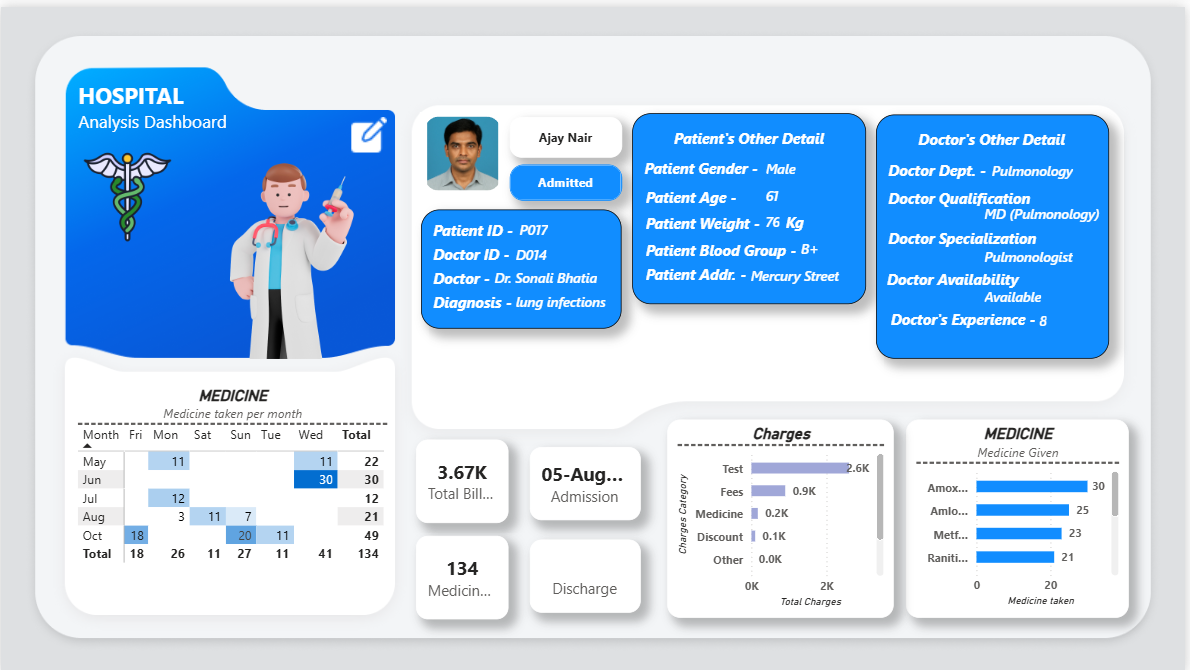

This screenshot's page, from the dashboard's own definition file:
{"tool":"powerbi","page":{"name":"Patient's Overview","canvas":[1280,720],"ordinal":0},"visuals":[{"type":"shape","box":[682.5,115,252.5,206.2],"z":0,"group":"g1"},{"type":"shape","box":[946,116,252,264],"z":0,"group":"g2"},{"type":"image","box":[196,158,226,222],"z":0},{"type":"textbox","box":[78.2,74.1,179.8,72.7],"z":1000},{"type":"textbox","box":[710.7,125.6,196,35.3],"z":1000,"group":"g1"},{"type":"textbox","box":[973.2,126.8,196,35.3],"z":1000,"group":"g2"},{"type":"image","box":[363.6,119.4,68.6,38.4],"z":2000},{"type":"textbox","box":[691.3,158.8,141.2,35],"z":2000,"group":"g1"},{"type":"textbox","box":[953.8,160,141.2,35],"z":2000,"group":"g2"},{"type":"textbox","box":[691.3,218.2,141.3,34.7],"z":3000,"group":"g1"},{"type":"textbox","box":[953.8,233.1,193.1,35],"z":3000,"group":"g2"},{"type":"pivotTable","title":"MEDICINE","fields":{"Values":["Sum(Medicine_patient.qty)"],"Columns":["Calender.Day"],"Rows":["Calender.Month"]},"box":[77.8,408.9,344.4,213.3],"z":3000},{"type":"textbox","box":[691.3,188.9,117.3,35.3],"z":4000,"group":"g1"},{"type":"textbox","box":[953.8,190,175.6,35.6],"z":4000,"group":"g2"},{"type":"clusteredBarChart","title":"MEDICINE","fields":{"Y":["Sum(Medicine_patient.qty)"],"Category":["Medical_stocks.name"]},"box":[978.9,446.5,240.8,214.1],"z":4000},{"type":"textbox","box":[691.3,247.6,204,34.7],"z":5000,"group":"g1"},{"type":"textbox","box":[953.1,277.5,204.4,35],"z":5000,"group":"g2"},{"type":"clusteredBarChart","title":"Charges","fields":{"Y":["Sum(Bills.Value)"],"Category":["Bills.Charge_Type"]},"box":[719.7,446.5,245.1,214.1],"z":5000},{"type":"cardVisual","fields":{"Data":["Min(Patient_info.doctor_department)"]},"box":[1065.6,158.8,103.8,32.5],"z":6000,"group":"g2"},{"type":"cardVisual","fields":{"Data":["Min(Patient_info.patient_gender)"]},"box":[821.3,160.2,103.3,27.3],"z":6000,"group":"g1"},{"type":"cardVisual","title":"vrgrbb","fields":{"Data":["Measure.Total_bill_amount"]},"box":[448.7,468.2,100,90],"z":6000},{"type":"cardVisual","fields":{"Data":["Sum(Patient_info.patient_age)"]},"box":[821.3,188.9,103.3,27.3],"z":7000,"group":"g1"},{"type":"cardVisual","fields":{"Data":["Min(Patient_info.doctor_qualification)"]},"box":[1058.8,206.9,138.8,31.9],"z":7000,"group":"g2"},{"type":"cardVisual","fields":{"Data":["Measure.medicine_total_sales"]},"box":[449.3,571.8,100,90.1],"z":7000},{"type":"cardVisual","fields":{"Data":["Sum(Patient_info.patient_weight)"]},"box":[822,218.2,28.7,27.3],"z":8000,"group":"g1"},{"type":"cardVisual","fields":{"Data":["Min(Patient_info.doctor_specialization)"]},"box":[1058.8,251.2,125,34.4],"z":8000,"group":"g2"},{"type":"cardVisual","title":"vrgrbb","fields":{"Data":["Min(Patient_info.Admission_date)"]},"box":[571.8,476.1,119.7,78.9],"z":8000},{"type":"textbox","box":[842.7,216.2,34.7,34.7],"z":9000,"group":"g1"},{"type":"cardVisual","fields":{"Data":["Min(Patient_info.doctor_availability)"]},"box":[1058.5,298.5,78.5,28.5],"z":9000,"group":"g2"},{"type":"cardVisual","title":"vrgrbb","fields":{"Data":["Min(Patient_info.Discharge_date)"]},"box":[571.8,576.1,119.7,78.9],"z":9000},{"type":"cardVisual","fields":{"Data":["Min(Patient_info.patient_Img)"]},"box":[452.5,113.1,93.1,90],"z":10000},{"type":"cardVisual","fields":{"Data":["Min(Patient_info.patient_blood_group)"]},"box":[860,246.2,46.9,27.7],"z":10000,"group":"g1"},{"type":"textbox","box":[956.2,321.5,204.6,33.8],"z":10000,"group":"g2"},{"type":"cardVisual","title":"vrgrbb","fields":{"Data":["Min(Patient_info.patient_name)"]},"box":[549.7,119,121.5,44.2],"z":11000},{"type":"textbox","box":[691.3,273.6,204,34.7],"z":11000,"group":"g1"},{"type":"cardVisual","fields":{"Data":["Sum(Patient_info.doctor_experience_years)"]},"box":[1117.4,320,40,35.3],"z":11000,"group":"g2"},{"type":"cardVisual","title":"vrgrbb","fields":{"Data":["Min(Patient_info.patient_status)"]},"box":[550,170.9,121.8,39.1],"z":12000},{"type":"cardVisual","fields":{"Data":["Min(Patient_info.patient_address)"]},"box":[805.4,271.6,109.2,36.2],"z":12000,"group":"g1"},{"type":"shape","box":[453.6,218.6,216.4,128.6],"z":13000},{"type":"textbox","box":[462.5,225,98.8,35],"z":14000},{"type":"textbox","box":[462.5,251.9,98.8,35],"z":15000},{"type":"textbox","box":[462.5,277.5,75,35],"z":16000},{"type":"cardVisual","fields":{"Data":["Min(Appoinment.patient_id)"]},"box":[555.6,218.8,91.2,41.2],"z":17000},{"type":"cardVisual","fields":{"Data":["Min(Appoinment.doctor_id)"]},"box":[551.2,248.8,91.2,35],"z":18000},{"type":"cardVisual","fields":{"Data":["Min(Patient_info.doctor_name)"]},"box":[528.9,271.1,131.1,41.1],"z":19000},{"type":"textbox","box":[462.5,303.1,132.5,35],"z":20000},{"type":"cardVisual","fields":{"Data":["Min(Appoinment.diagnosis)"]},"box":[551.2,296.9,109.4,41.2],"z":21000},{"type":"group","id":"g1","title":"Patient_detail","box":[682.5,115,252.5,206.2],"z":23000},{"type":"image","box":[64,152,146,106],"z":24000},{"type":"group","id":"g2","title":"Doctor's_detail","box":[946,116,252,264],"z":25000}]}

Visuals, with their boxes in screenshot pixels (x1, y1, x2, y2), scaled from the page's 1280x720 canvas onto the 1190x670 screenshot:
shape: [635, 107, 869, 299]
shape: [879, 108, 1114, 354]
image: [182, 147, 392, 354]
textbox: [73, 69, 240, 137]
textbox: [661, 117, 843, 150]
textbox: [905, 118, 1087, 151]
image: [338, 111, 402, 147]
textbox: [643, 148, 774, 180]
textbox: [887, 149, 1018, 181]
textbox: [643, 203, 774, 235]
textbox: [887, 217, 1066, 249]
"MEDICINE" pivotTable: [72, 381, 393, 579]
textbox: [643, 176, 752, 209]
textbox: [887, 177, 1050, 210]
"MEDICINE" clusteredBarChart: [910, 415, 1134, 615]
textbox: [643, 230, 832, 263]
textbox: [886, 258, 1076, 291]
"Charges" clusteredBarChart: [669, 415, 897, 615]
cardVisual - Min(Patient_info.doctor_department): [991, 148, 1087, 178]
cardVisual - Min(Patient_info.patient_gender): [764, 149, 860, 174]
"vrgrbb" cardVisual: [417, 436, 510, 519]
cardVisual - Sum(Patient_info.patient_age): [764, 176, 860, 201]
cardVisual - Min(Patient_info.doctor_qualification): [984, 193, 1113, 222]
cardVisual - Measure.medicine_total_sales: [418, 532, 511, 616]
cardVisual - Sum(Patient_info.patient_weight): [764, 203, 791, 228]
cardVisual - Min(Patient_info.doctor_specialization): [984, 234, 1101, 266]
"vrgrbb" cardVisual: [532, 443, 643, 516]
textbox: [783, 201, 816, 233]
cardVisual - Min(Patient_info.doctor_availability): [984, 278, 1057, 304]
"vrgrbb" cardVisual: [532, 536, 643, 610]
cardVisual - Min(Patient_info.patient_Img): [421, 105, 507, 189]
cardVisual - Min(Patient_info.patient_blood_group): [800, 229, 843, 255]
textbox: [889, 299, 1079, 331]
"vrgrbb" cardVisual: [511, 111, 624, 152]
textbox: [643, 255, 832, 287]
cardVisual - Sum(Patient_info.doctor_experience_years): [1039, 298, 1076, 331]
"vrgrbb" cardVisual: [511, 159, 625, 195]
cardVisual - Min(Patient_info.patient_address): [749, 253, 850, 286]
shape: [422, 203, 623, 323]
textbox: [430, 209, 522, 242]
textbox: [430, 234, 522, 267]
textbox: [430, 258, 500, 291]
cardVisual - Min(Appoinment.patient_id): [517, 204, 601, 242]
cardVisual - Min(Appoinment.doctor_id): [512, 232, 597, 264]
cardVisual - Min(Patient_info.doctor_name): [492, 252, 614, 291]
textbox: [430, 282, 553, 315]
cardVisual - Min(Appoinment.diagnosis): [512, 276, 614, 315]
"Patient_detail" group: [635, 107, 869, 299]
image: [60, 141, 195, 240]
"Doctor's_detail" group: [879, 108, 1114, 354]
